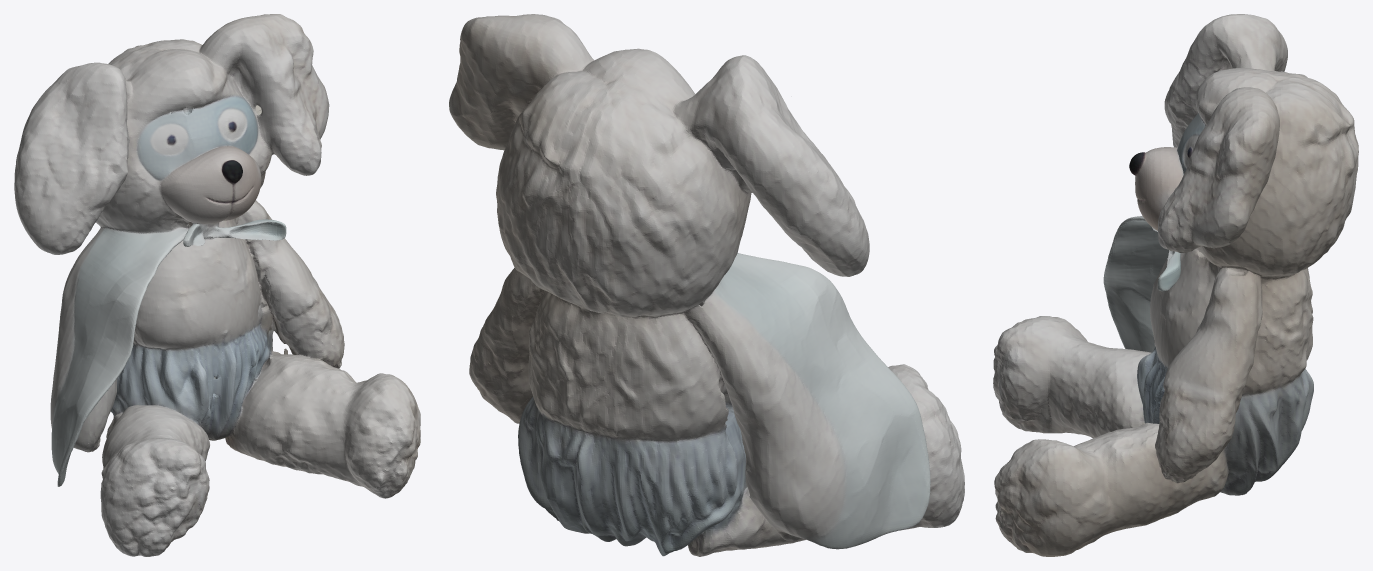
Rendered from splat.glb.
The picture shows the model from 3 angles, left to right: view 1: azimuth 30°, elevation 25°; view 2: azimuth 150°, elevation 25°; view 3: azimuth 270°, elevation 25°; orthographic projection. The views are drawn at different scales.
Parts seen in each view (by area): view 1: geometry_0; view 2: geometry_0; view 3: geometry_0.
Boxes of the visible parts, x1,y1,x2,y2 form: geometry_0: (14, 14, 420, 556); geometry_0: (449, 14, 964, 556); geometry_0: (993, 14, 1358, 556).
Bounding box in the file's own units: 0.8359 × 0.9991 × 0.759.
